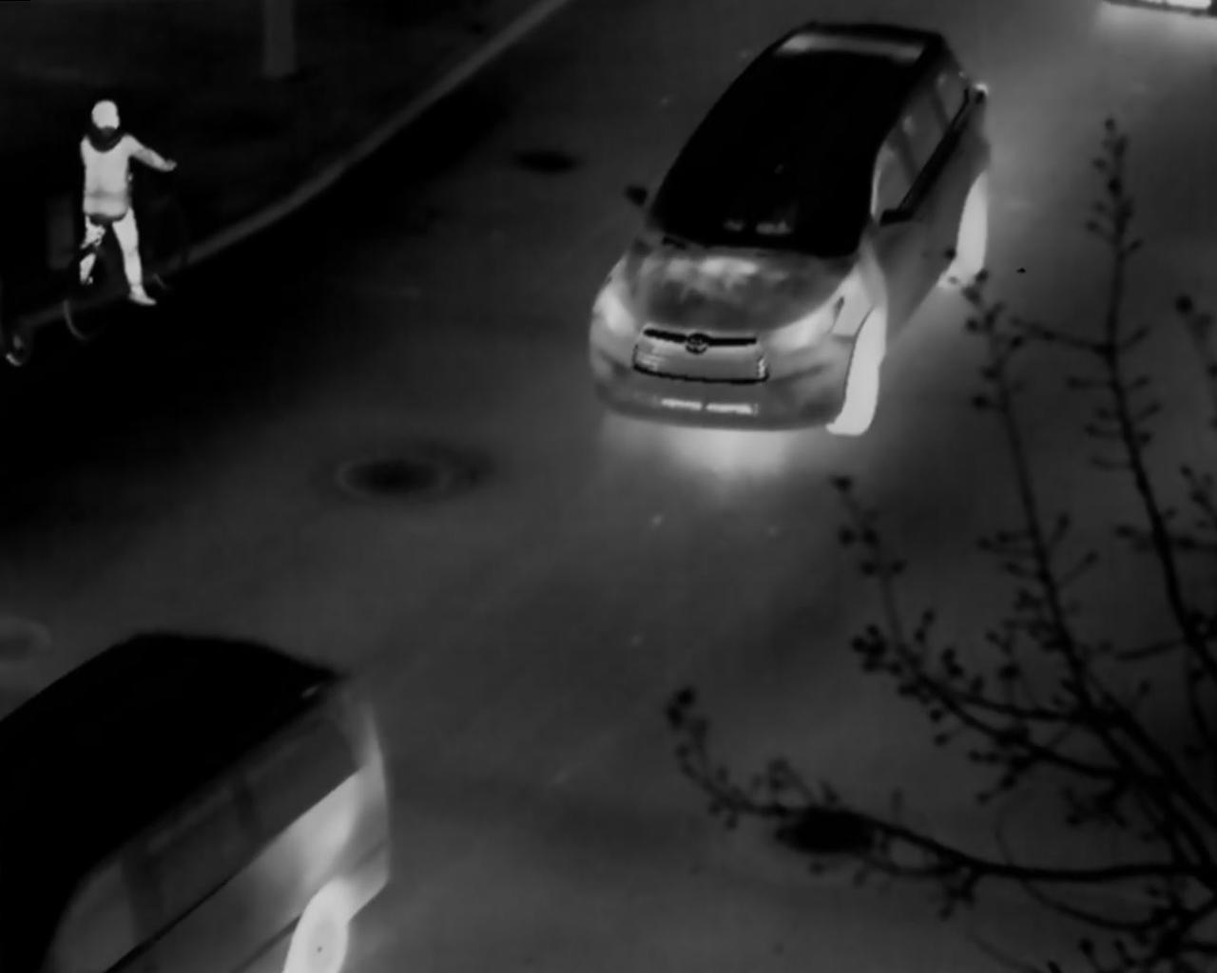person: (76, 100, 177, 309)
